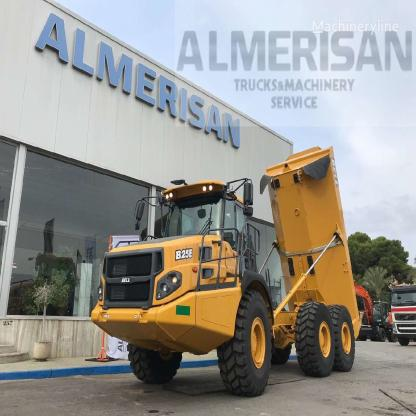dump_truck: (104, 142, 361, 398)
